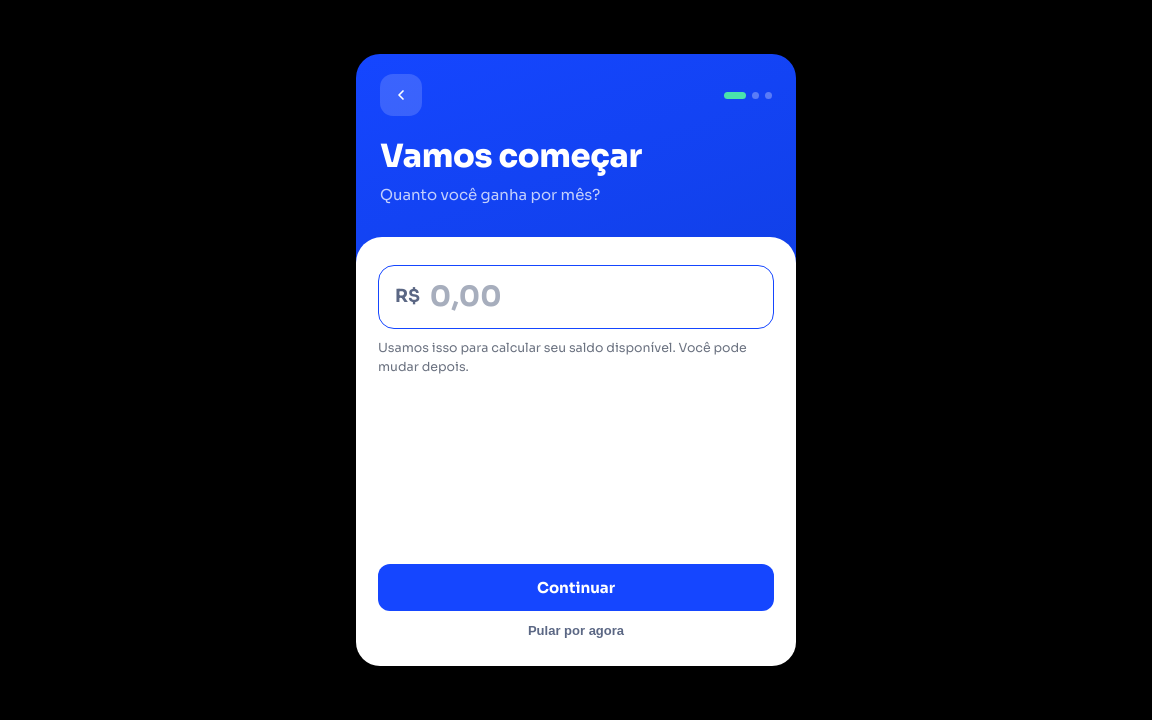
Test: OnboardingModal — fluxo de conclusão › botão de voltar no passo 1 funciona como pular
Click the button named "Voltar" at (401, 95), box [380, 74, 422, 116]
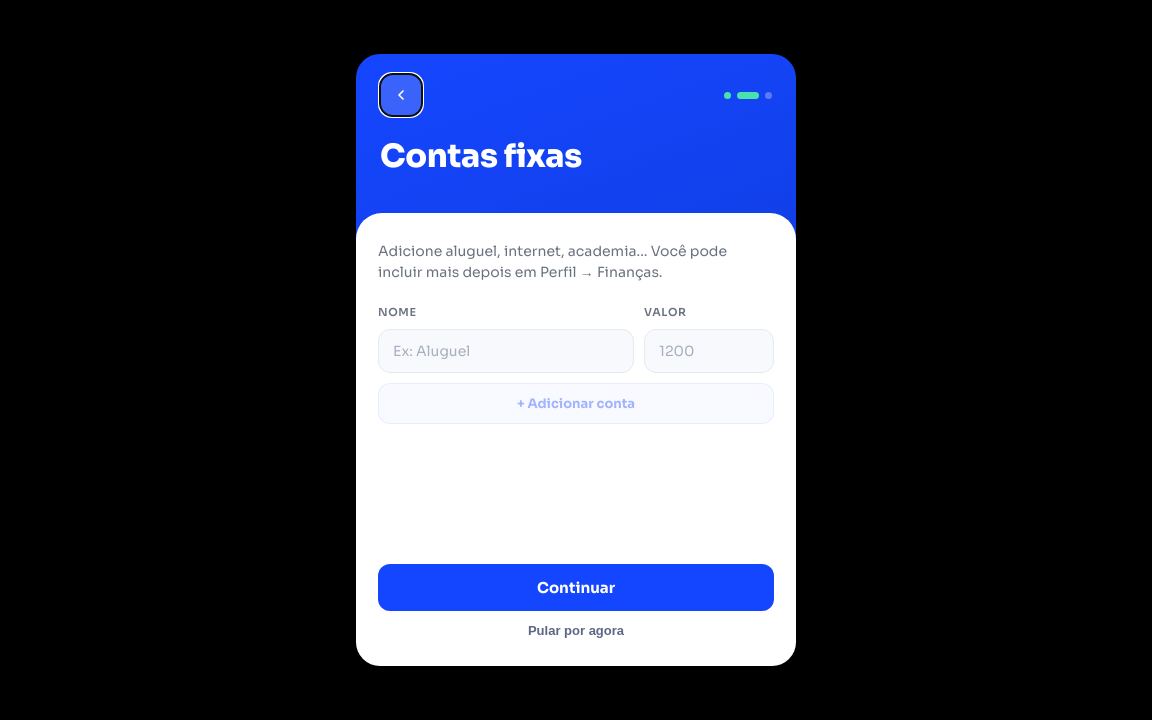
Expected: the heading "Contas fixas" is shown, [380, 136, 582, 176]
